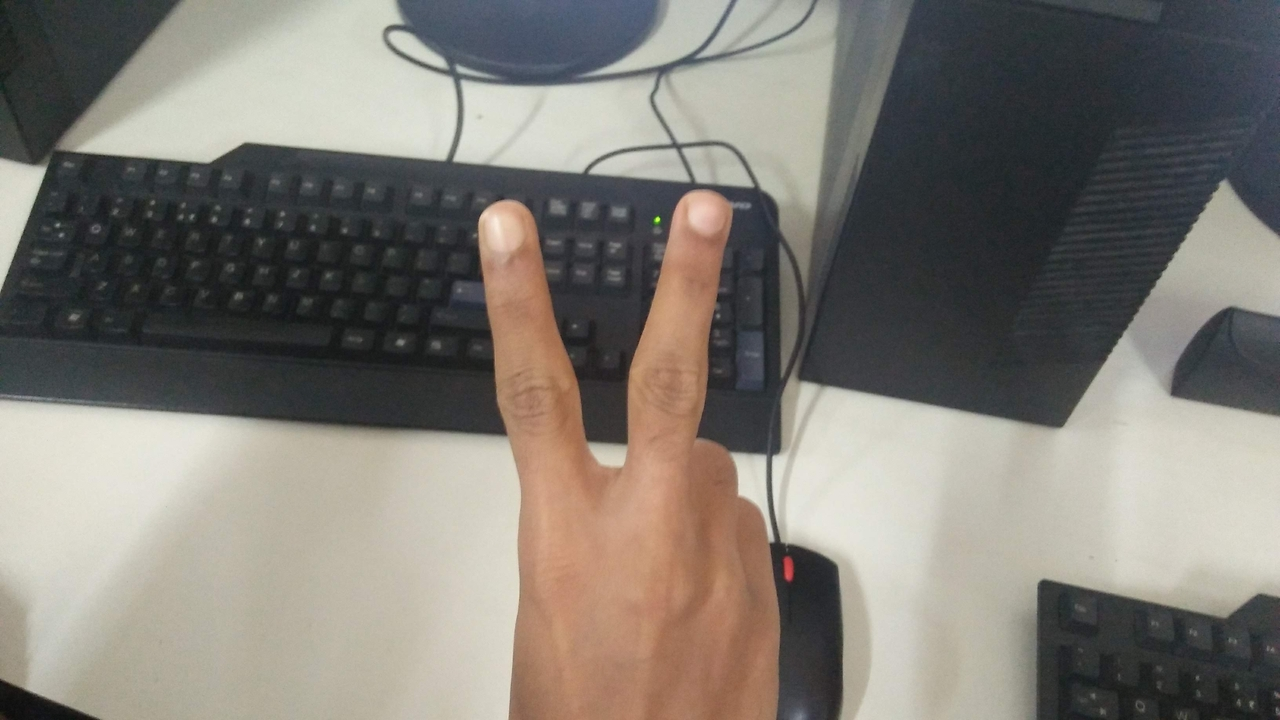fingertip: (466, 194, 544, 266), (670, 184, 732, 254)
